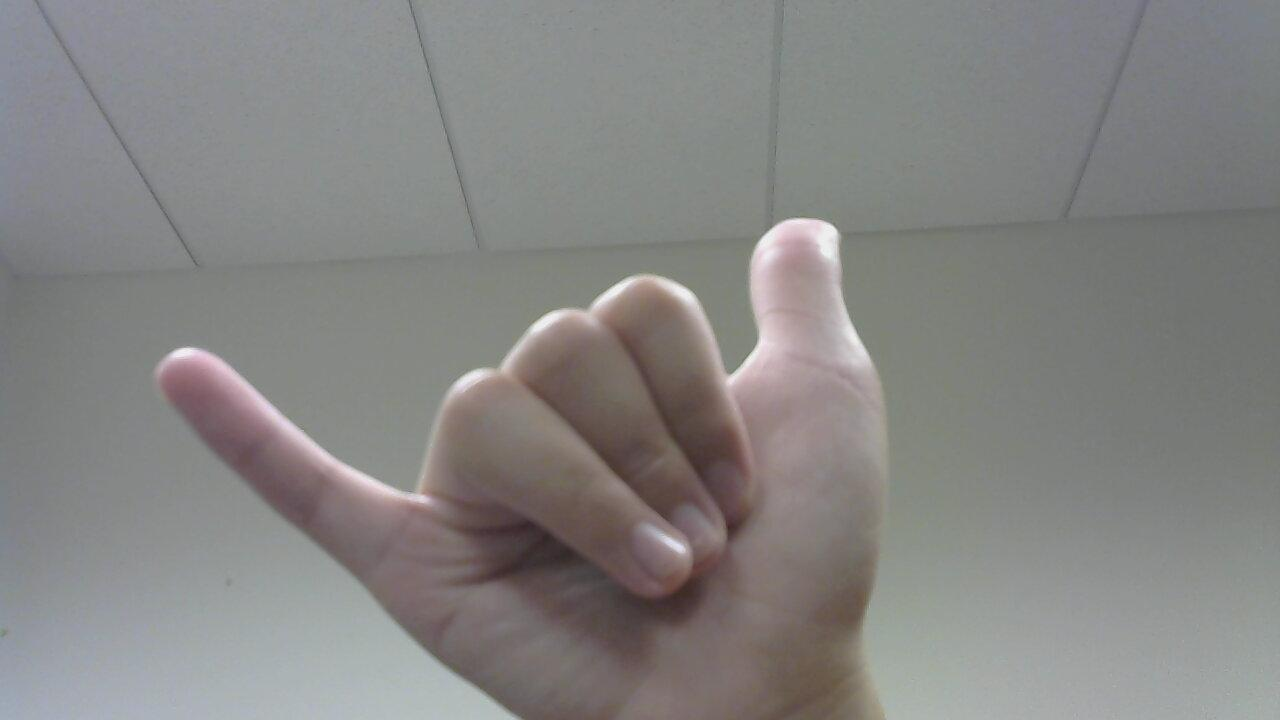hands: (143, 209, 901, 714)
